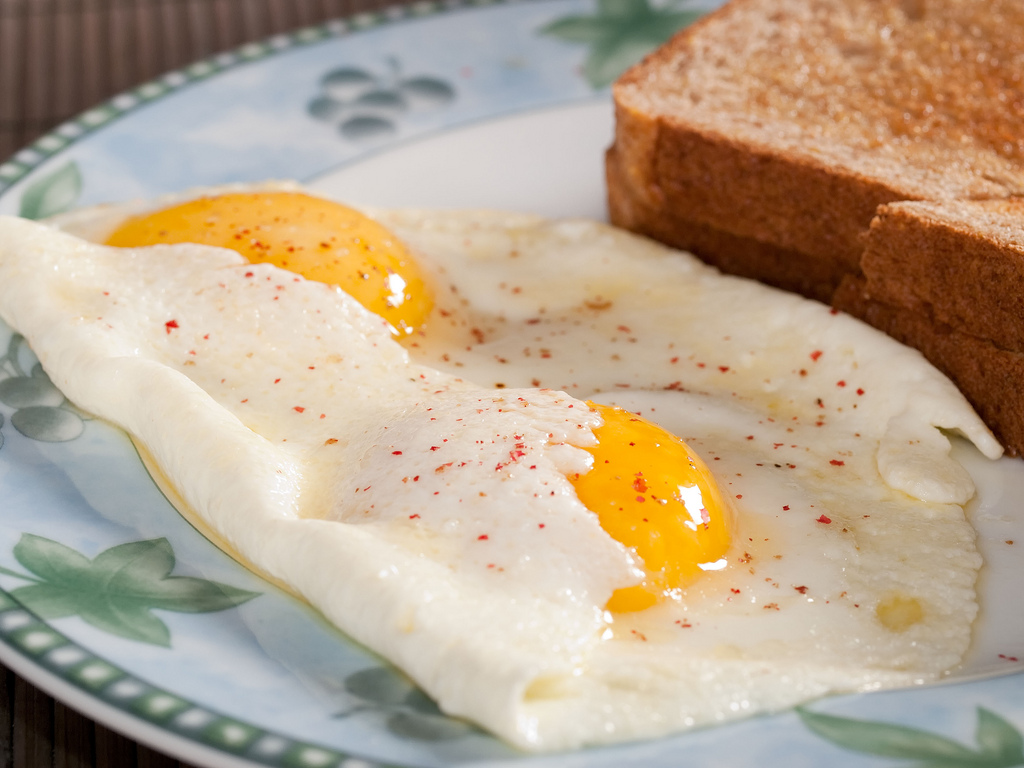fried egg: (379, 205, 996, 741), (6, 173, 511, 527)
